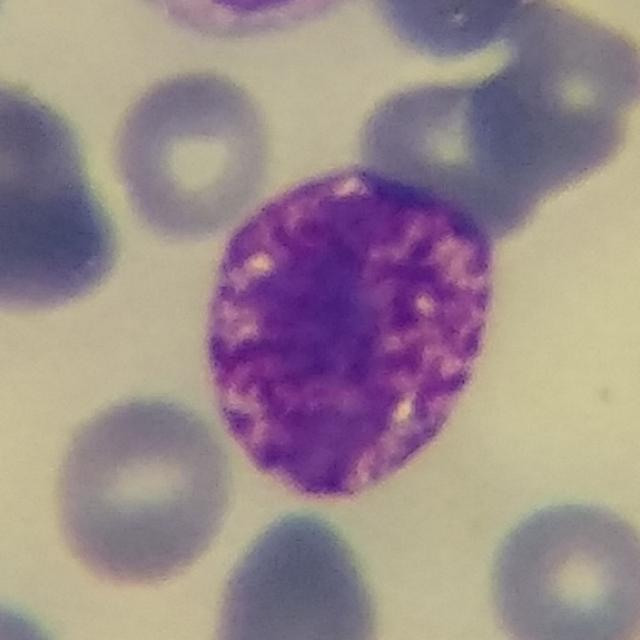baso: (205, 162, 494, 500)
